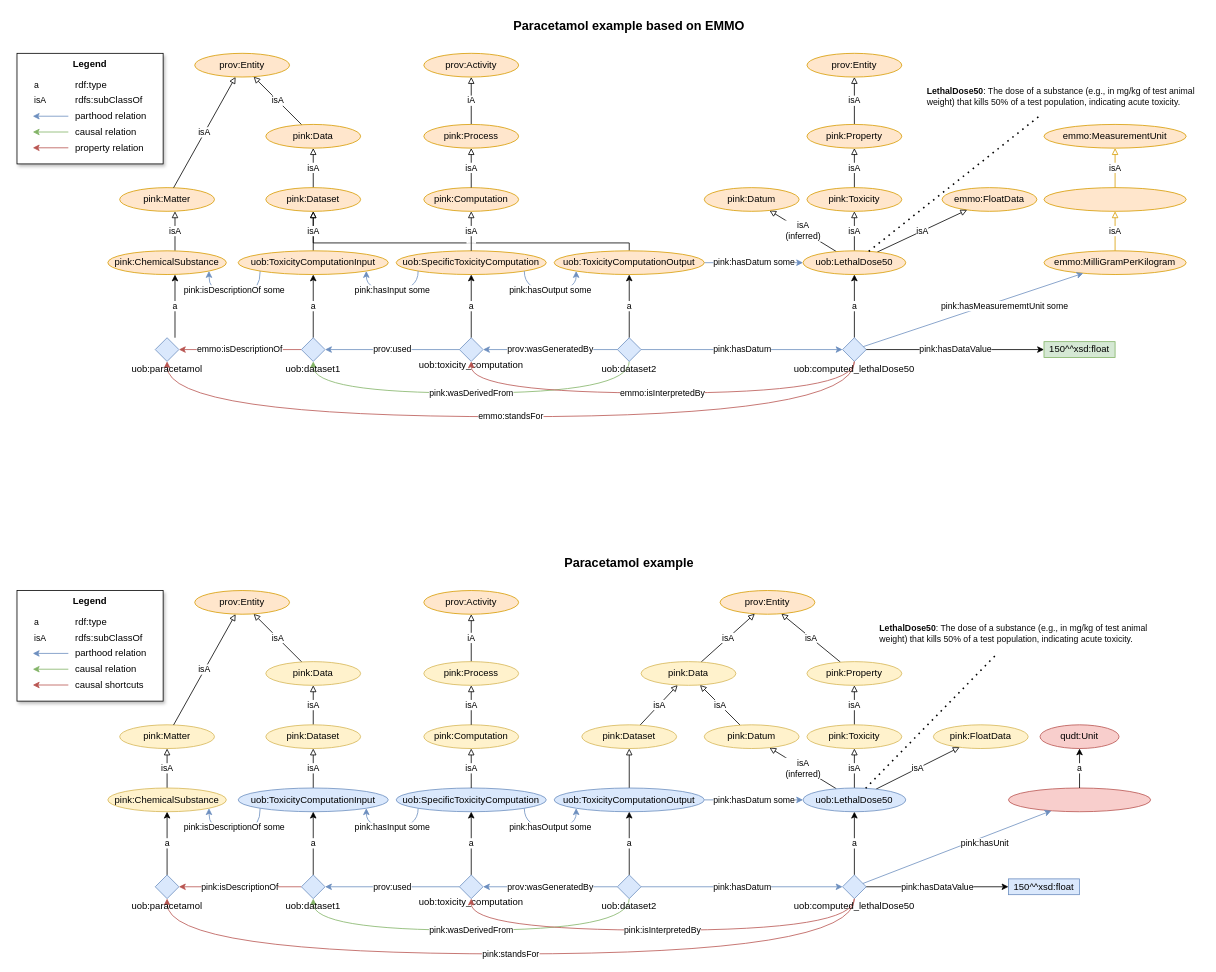
Some shapes in this 1216 by 972 pixel diagram are drawn without their labels. Each missing label, with the centre of its shape:
emmo:MassFractionUnit: point 1114,199
unit:MilliGM-PER-KiloGM: point 1079,799
